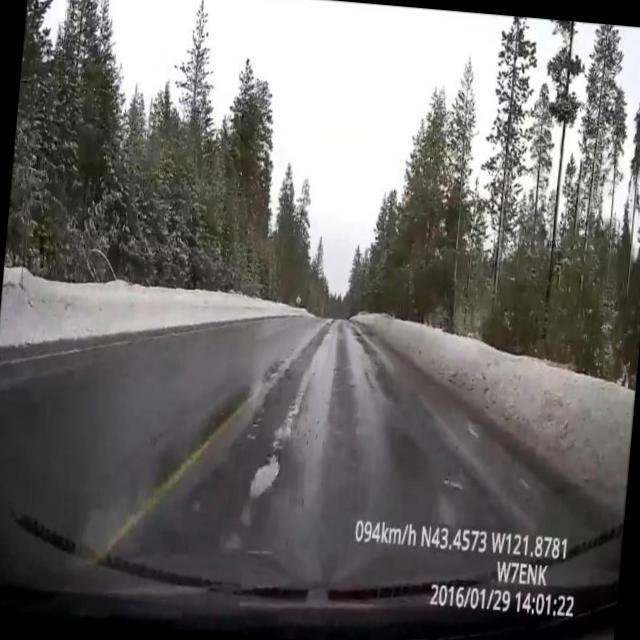Pothole: (248, 448, 283, 503)
